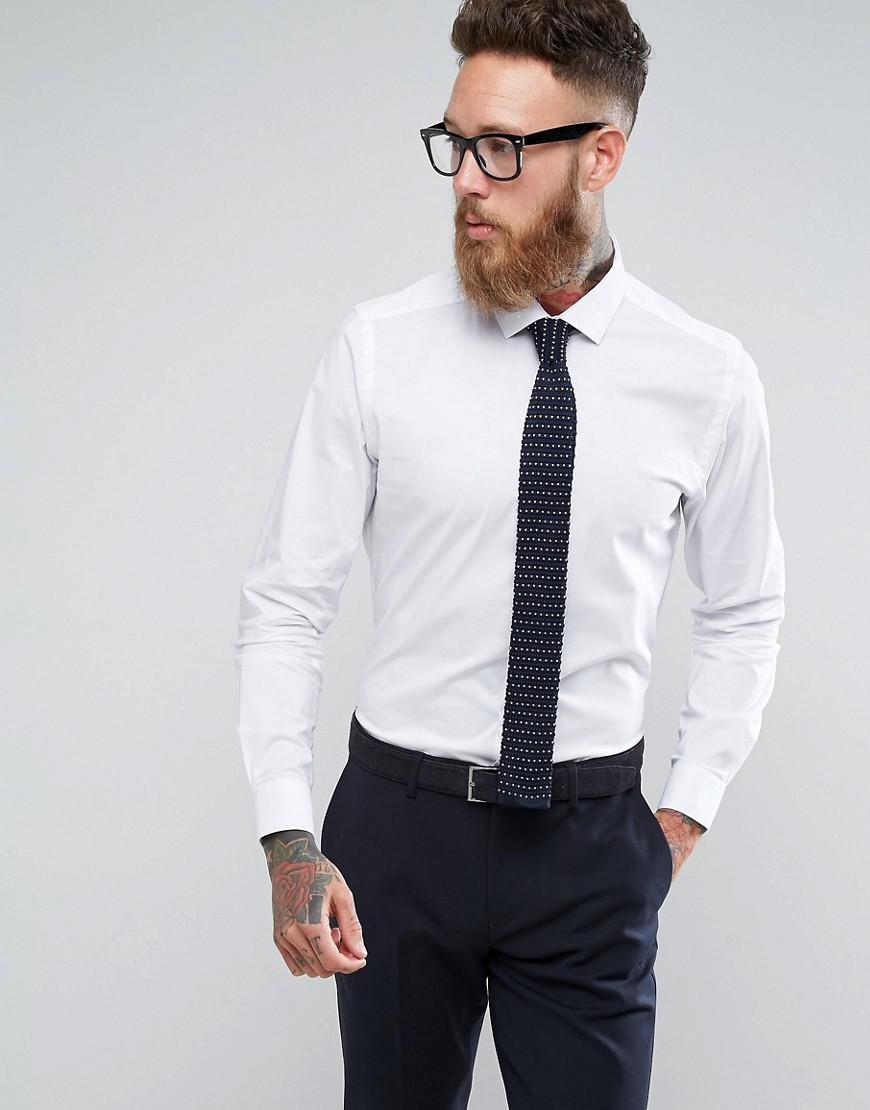teeshirt: (227, 234, 778, 868)
